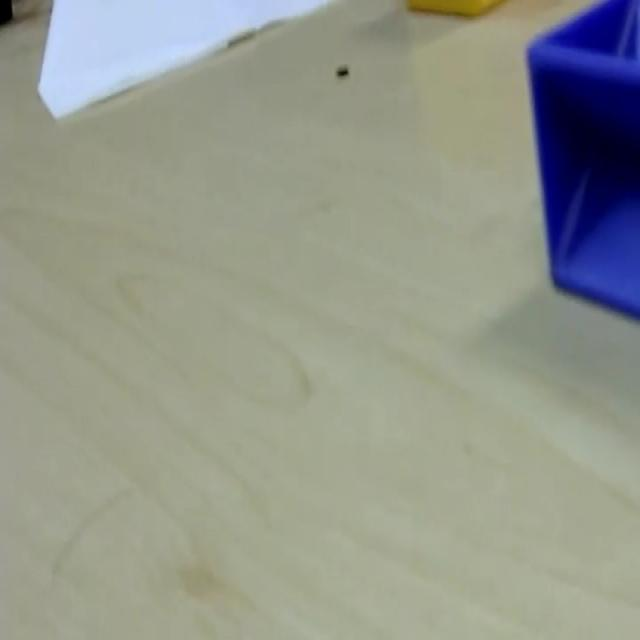blue_block: (524, 0, 638, 319)
yellow_block: (405, 0, 505, 17)
